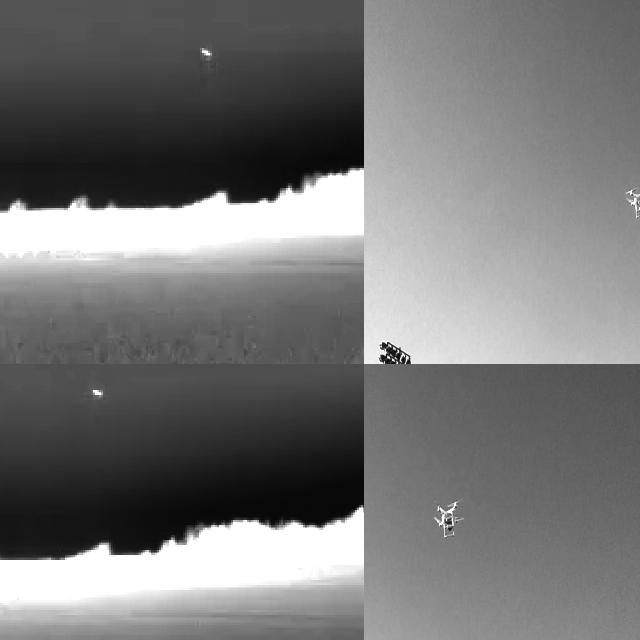1: (77, 376, 119, 422), (187, 36, 227, 80)
drone: (431, 490, 464, 545), (624, 180, 640, 227)
